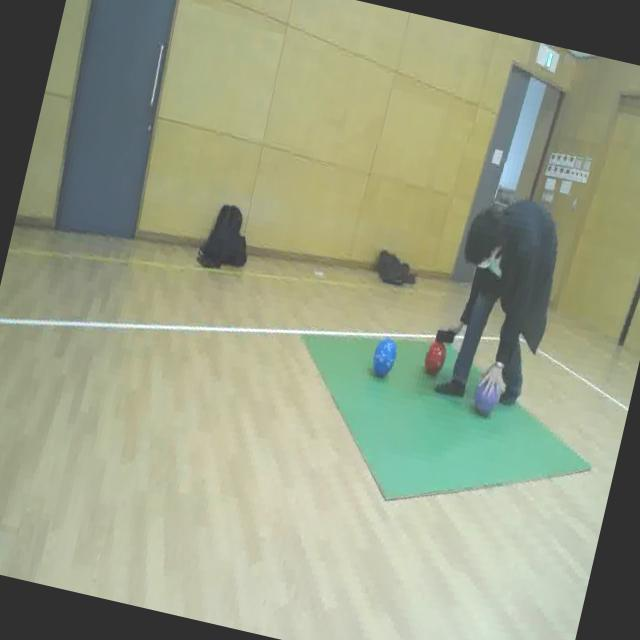blue_ball: (369, 334, 400, 380)
purple_ball: (469, 369, 504, 420)
red_ball: (422, 339, 448, 374)
